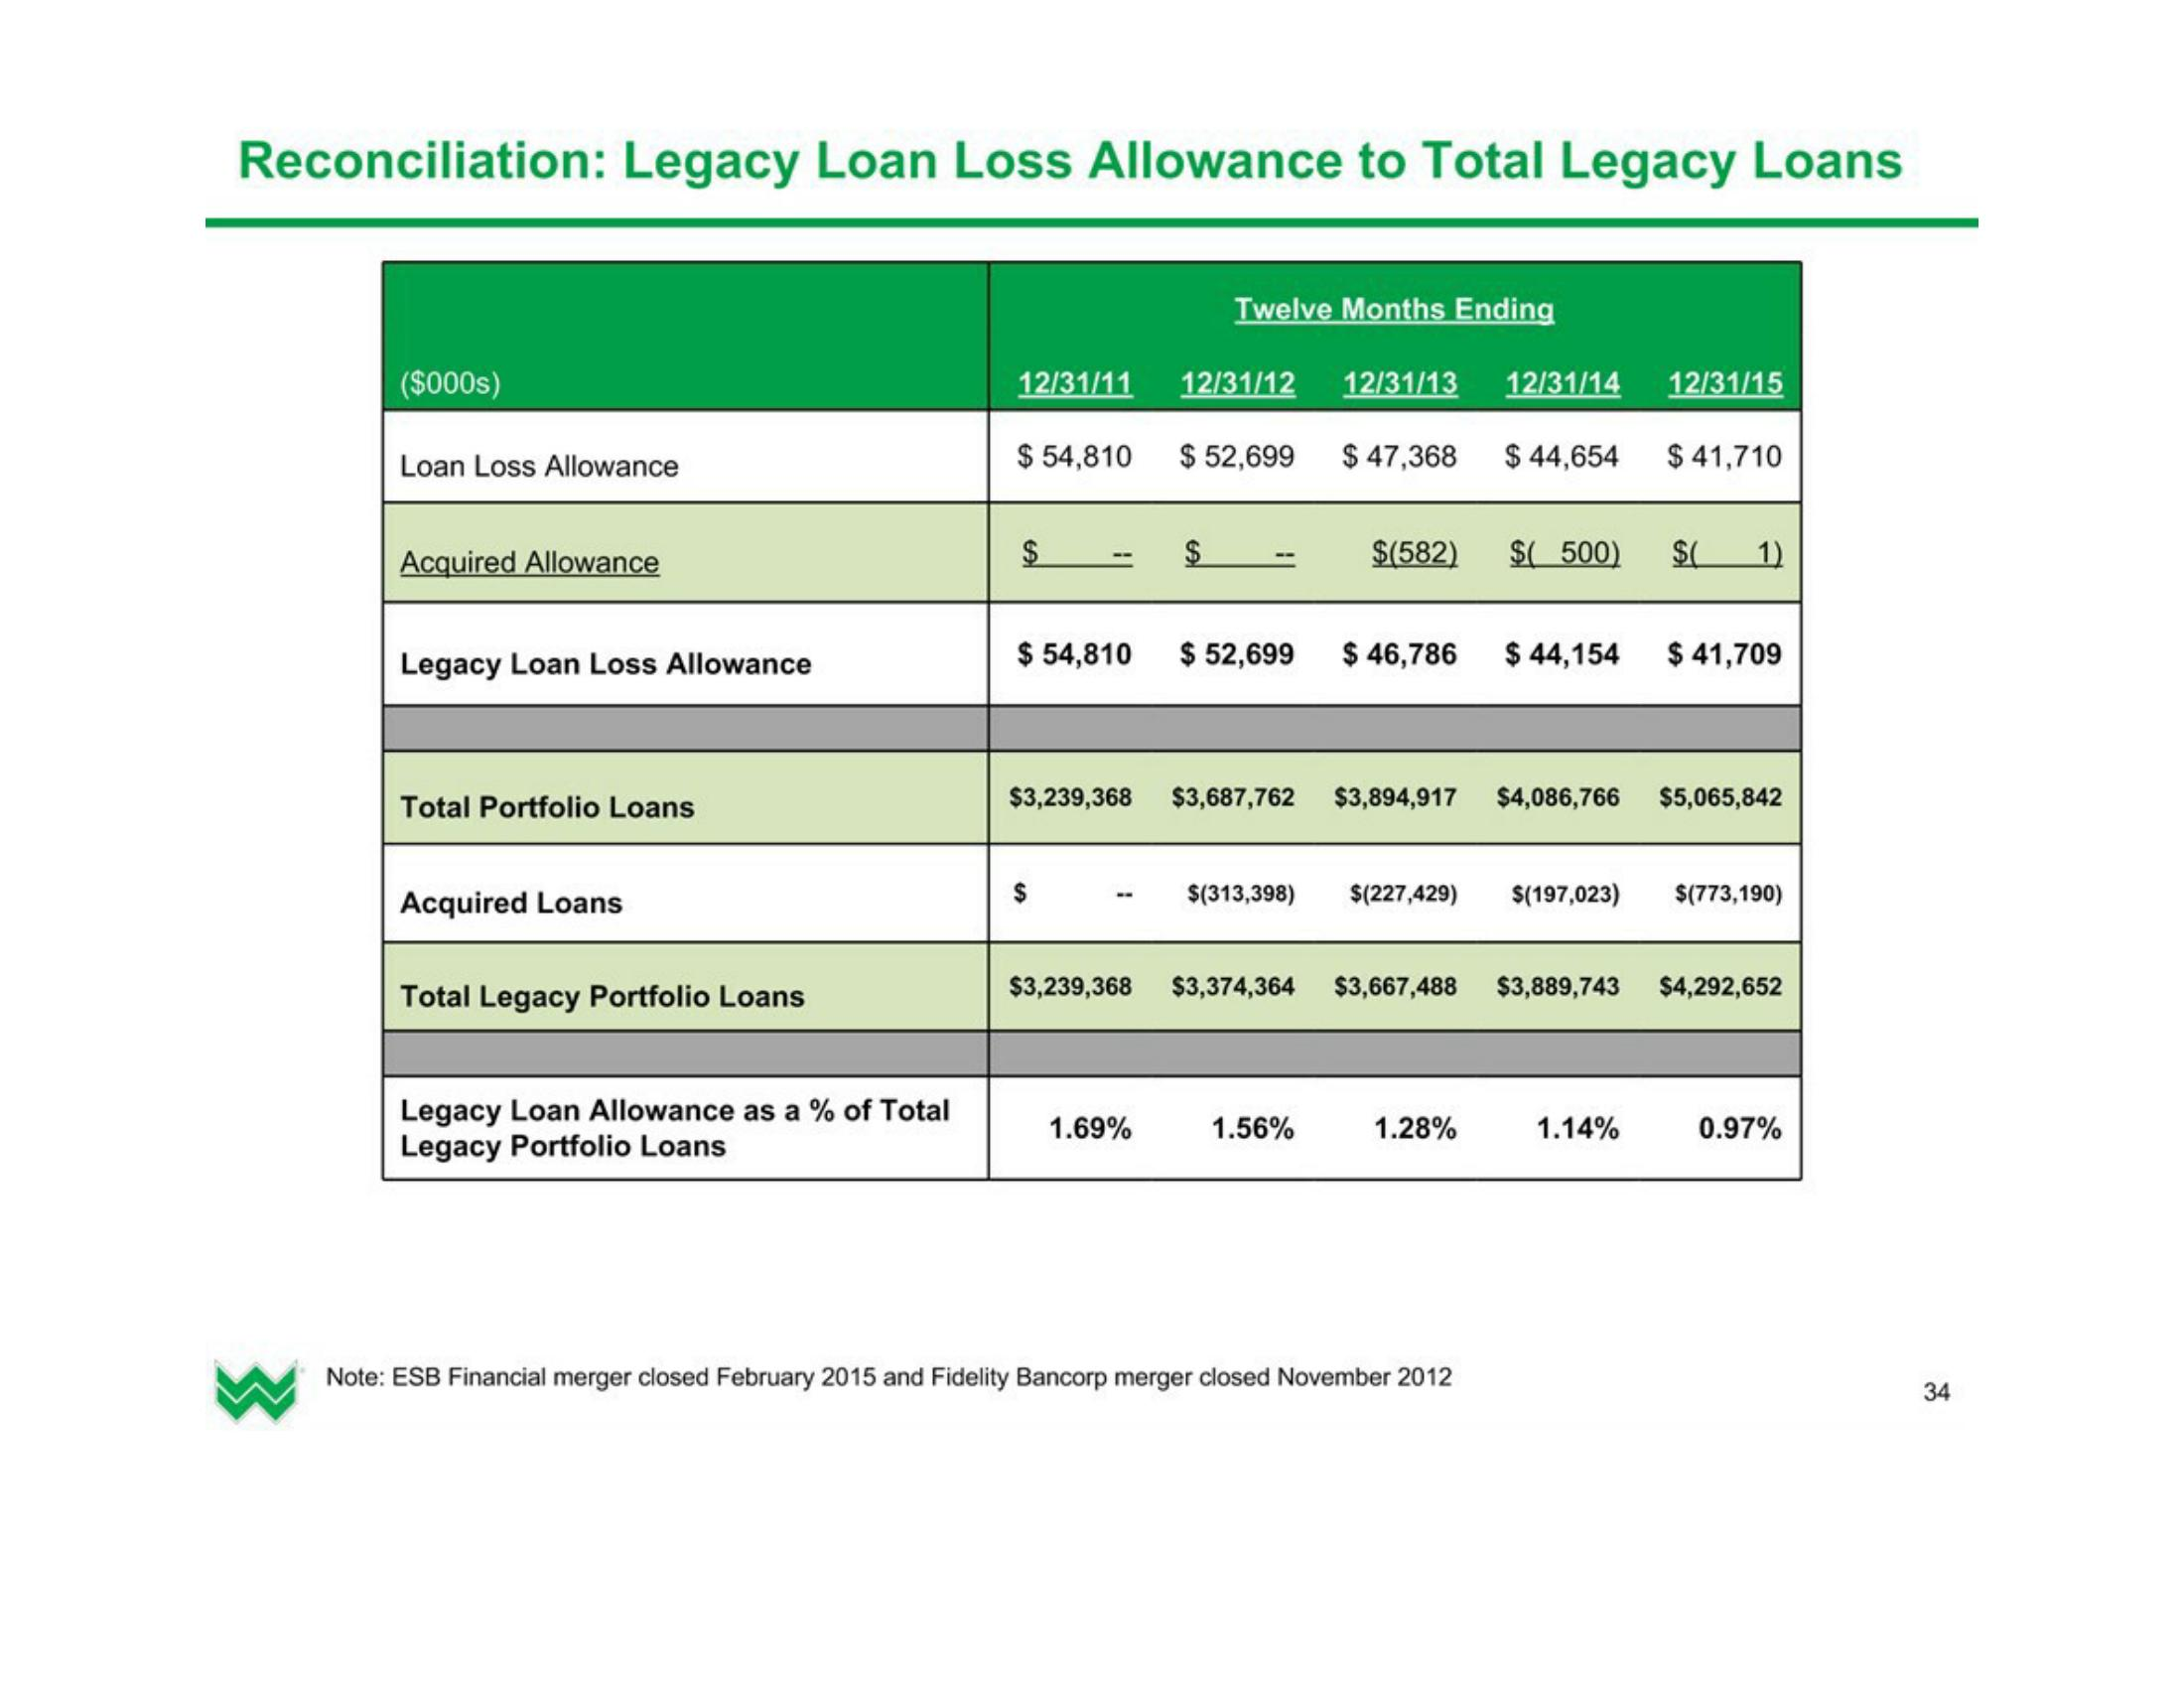table: (374, 254, 1808, 1192)
